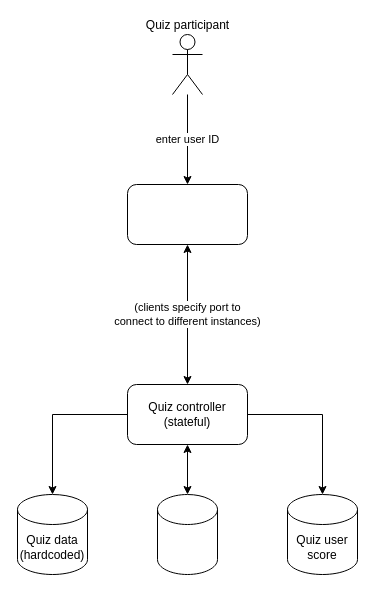
Some shapes in this 375 by 592 pixel diagram are drawn without their labels. The centre of each missing label's shape, as x and y in pixels:
"Command-line client" belongs at pixel 187 214.
"Event broker" belongs at pixel 187 534.
